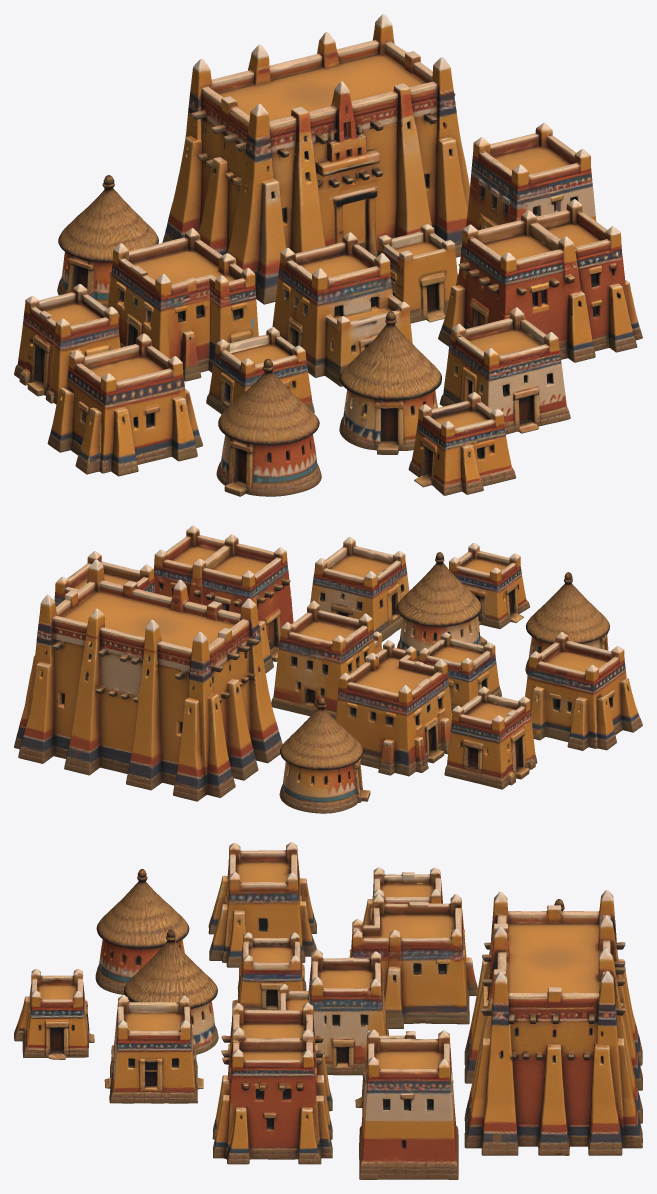
Rendered from Medieval Village (West African).fbx.
3 views of the same model, one above another, from view 1: azimuth 30°, elevation 25°; view 2: azimuth 150°, elevation 25°; view 3: azimuth 270°, elevation 25° (orthographic). The views are drawn at different scales.
Visible parts, largest first — view 1: tripo_node_a9246b27; view 2: tripo_node_a9246b27; view 3: tripo_node_a9246b27.
Part boxes in pixels (x1,y1,x2,y2): tripo_node_a9246b27: (14, 14, 642, 496); tripo_node_a9246b27: (14, 525, 642, 813); tripo_node_a9246b27: (14, 842, 642, 1179).
Bounding box in the file's own units: 0.9957 × 0.2994 × 1.
